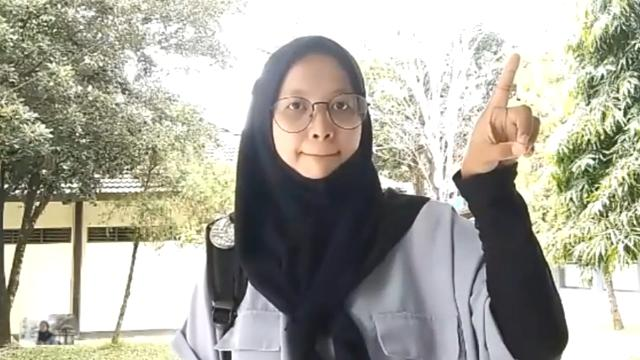D: (460, 52, 542, 178)
